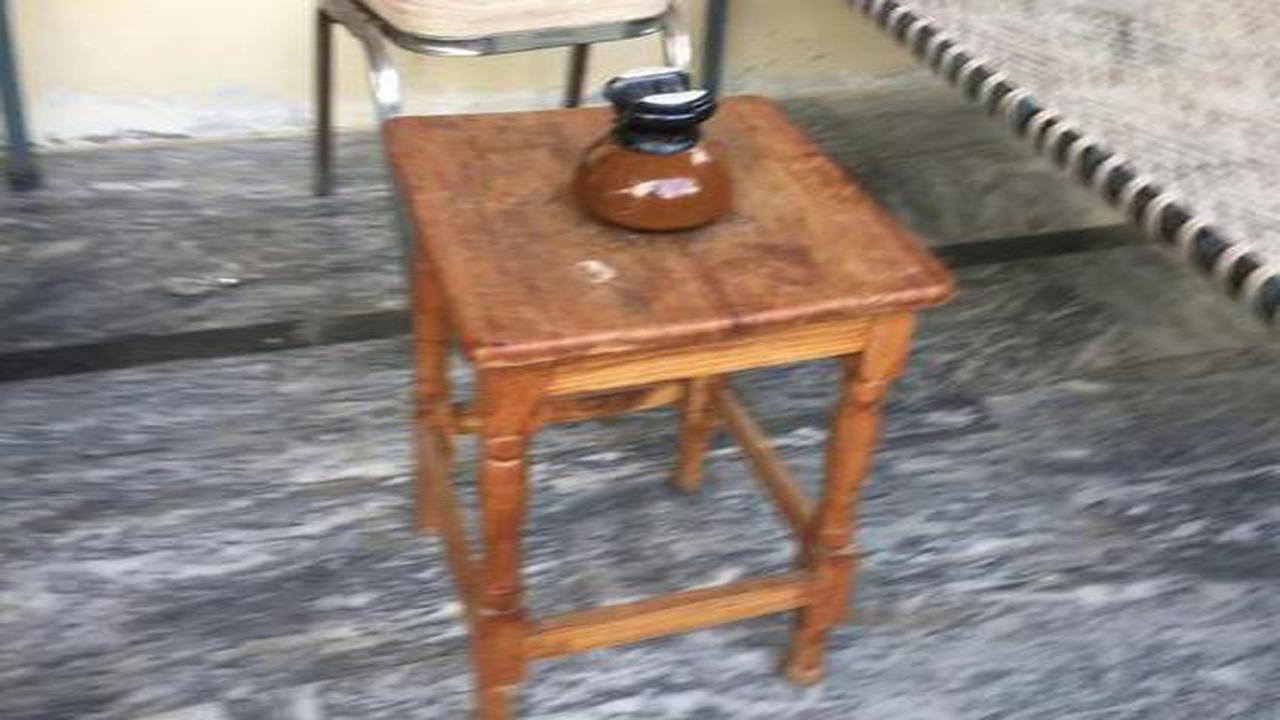insulator_pin: (554, 58, 745, 246)
